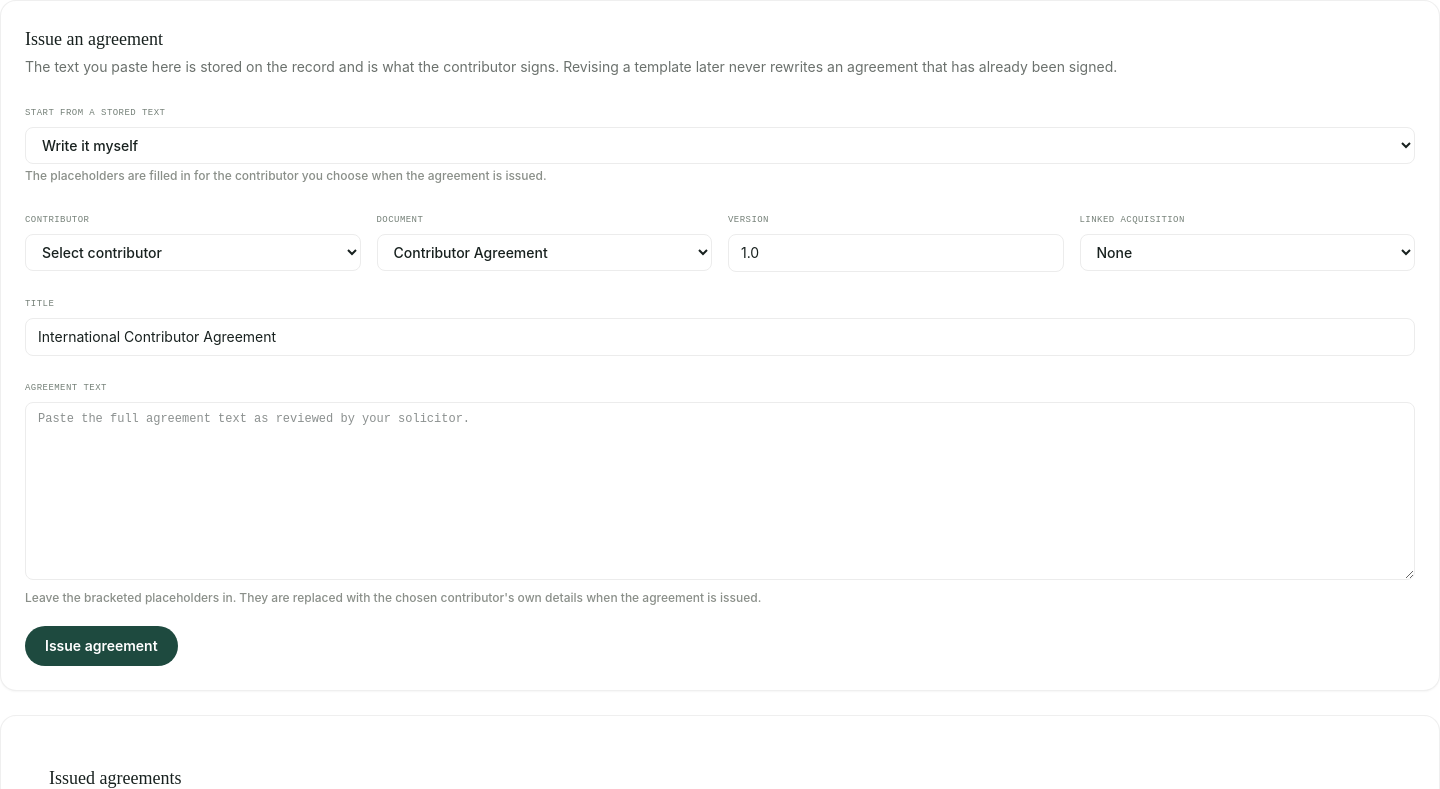
Test: AgreementsPanel › re-fills when the contributor is changed, rather than keeping the first
This screenshot has width=1440, height=789.
Expected: the text "Start from a stored text" is shown, [25, 108, 165, 118]
Select "International Contributor Agreement · v1.0 (current)" in the 1st dropdown. click: x=720, y=146
box: [25, 127, 1415, 164]
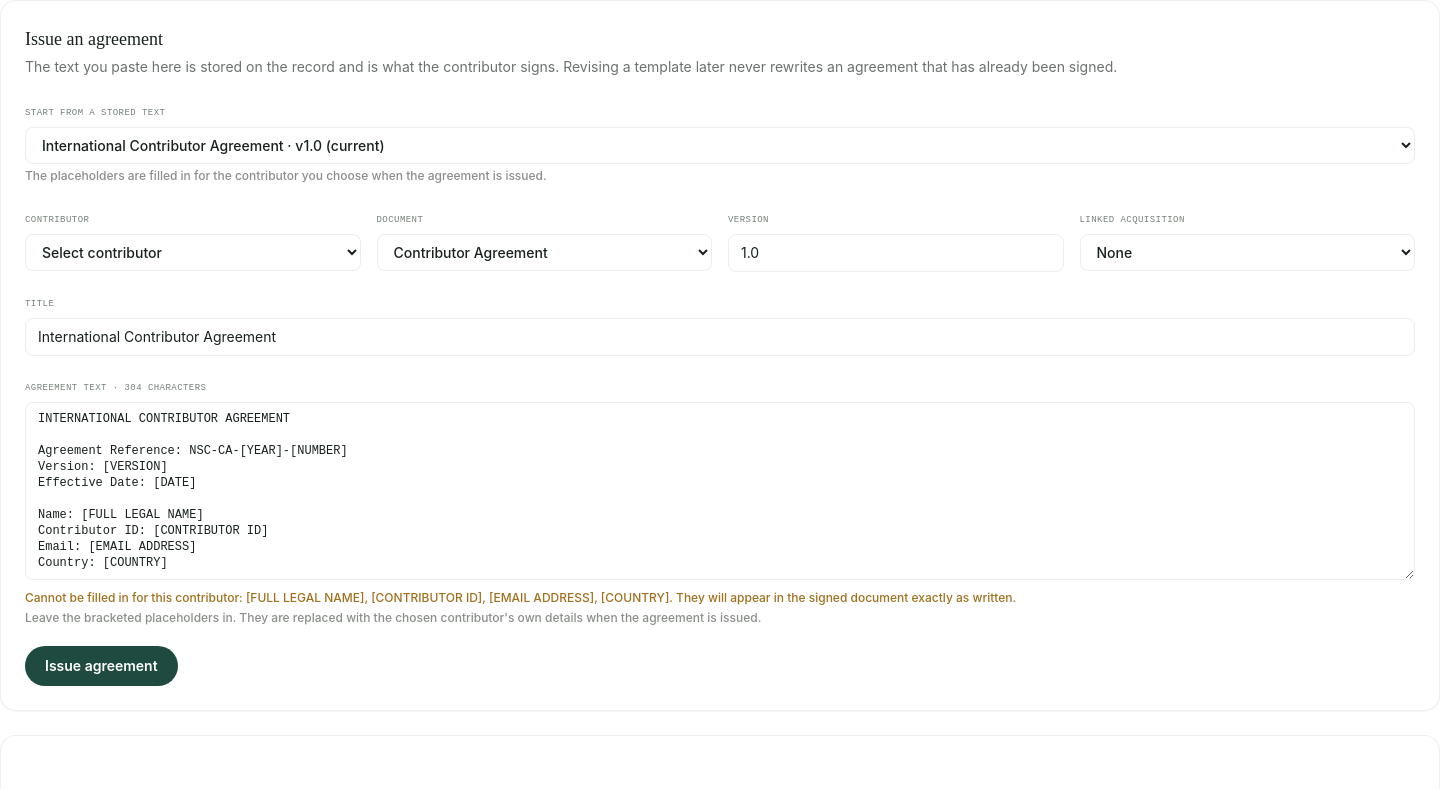
Select "Ernie Blarinckx" in the dropdown labelled "Contributor". click: x=193, y=252
box: [25, 234, 360, 271]
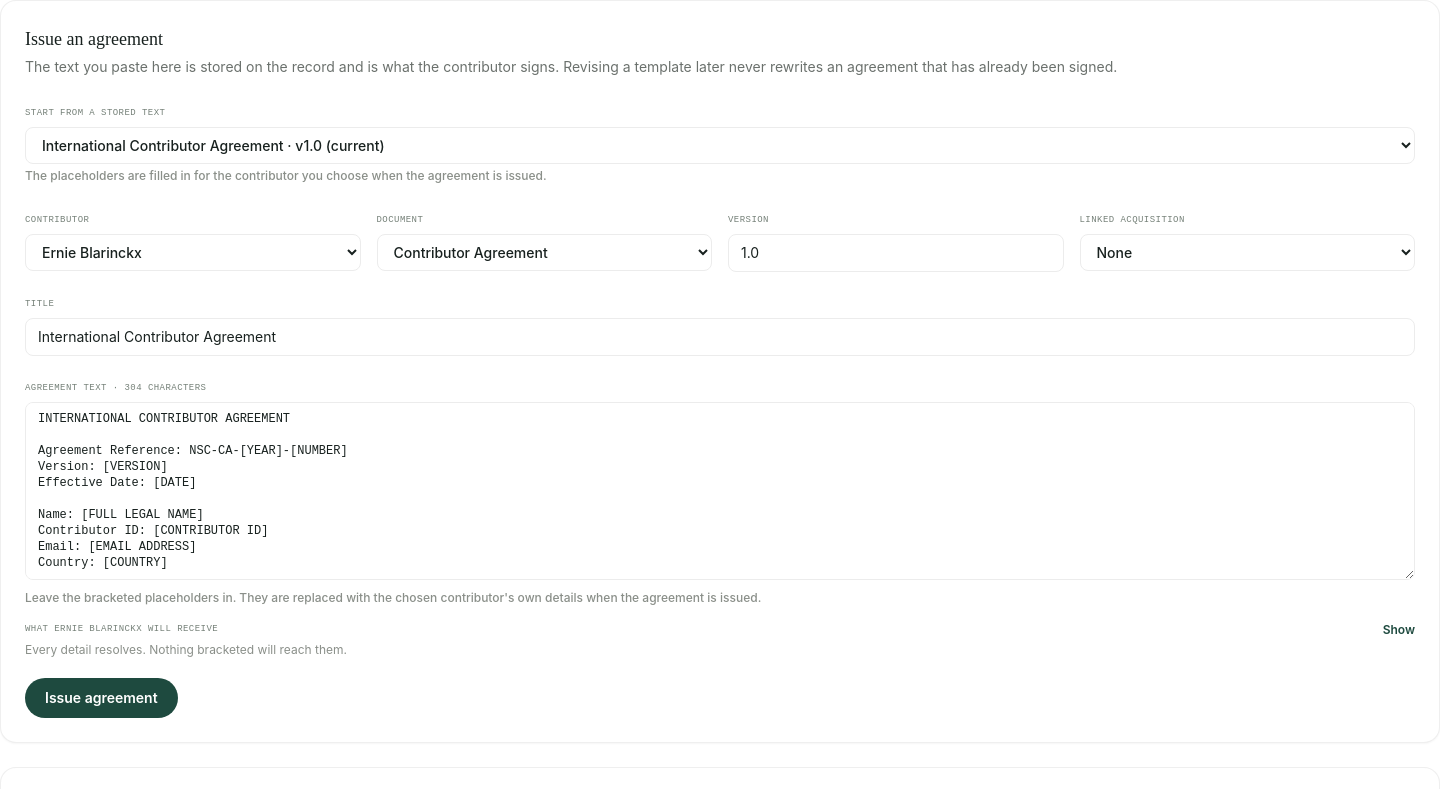
Click the button "Show". click: x=1399, y=630
box: [1383, 622, 1415, 638]
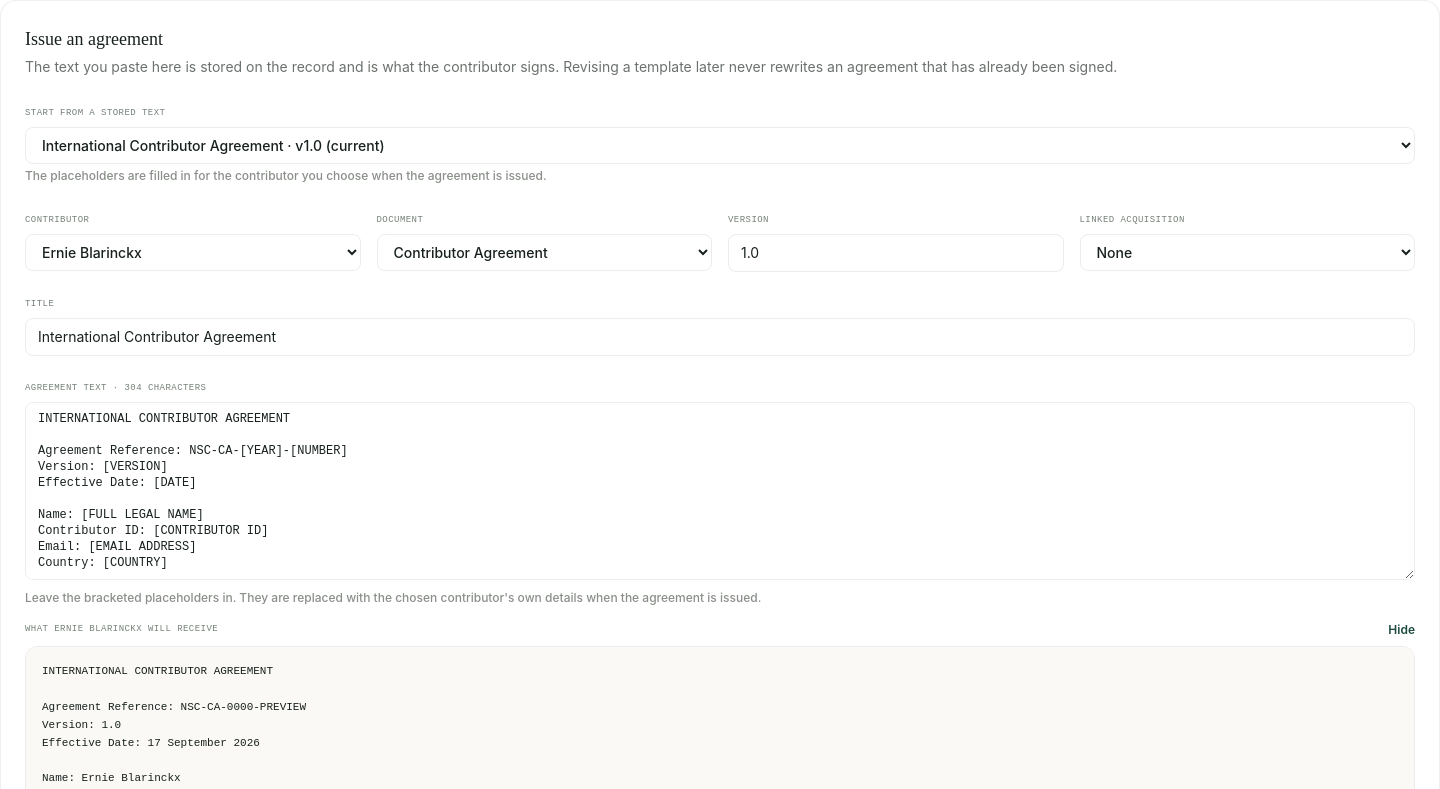
Select "Junghoon Sung" in the dropdown labelled "Contributor". click: x=193, y=252
box: [25, 234, 360, 271]
(page scrolled)
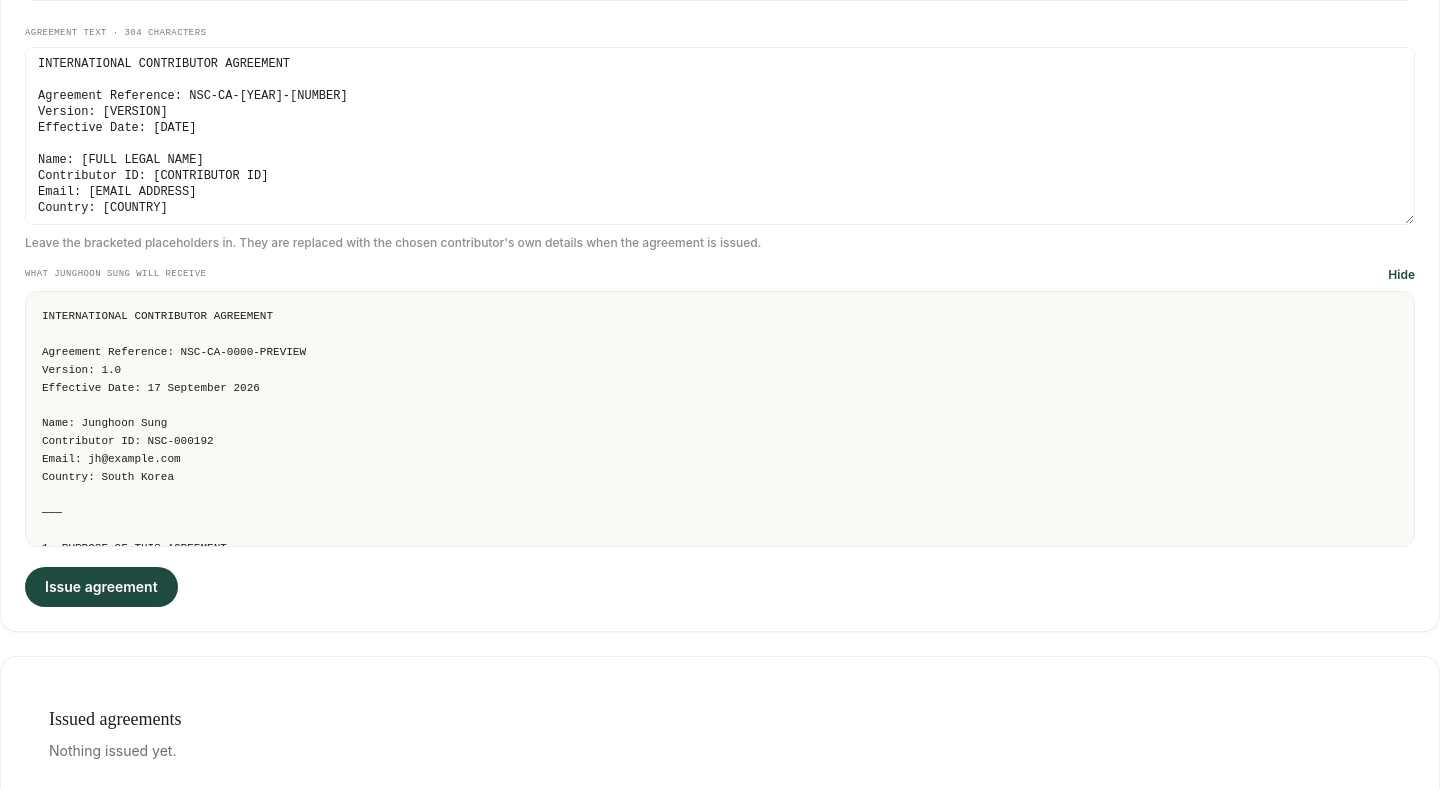
Expected: the text "Name: Junghoon Sung" shows "Country: South Korea", [42, 310, 339, 590]
Expected: the text "Name: Junghoon Sung" no longer shows "Ernie Blarinckx", [25, 291, 1415, 547]
